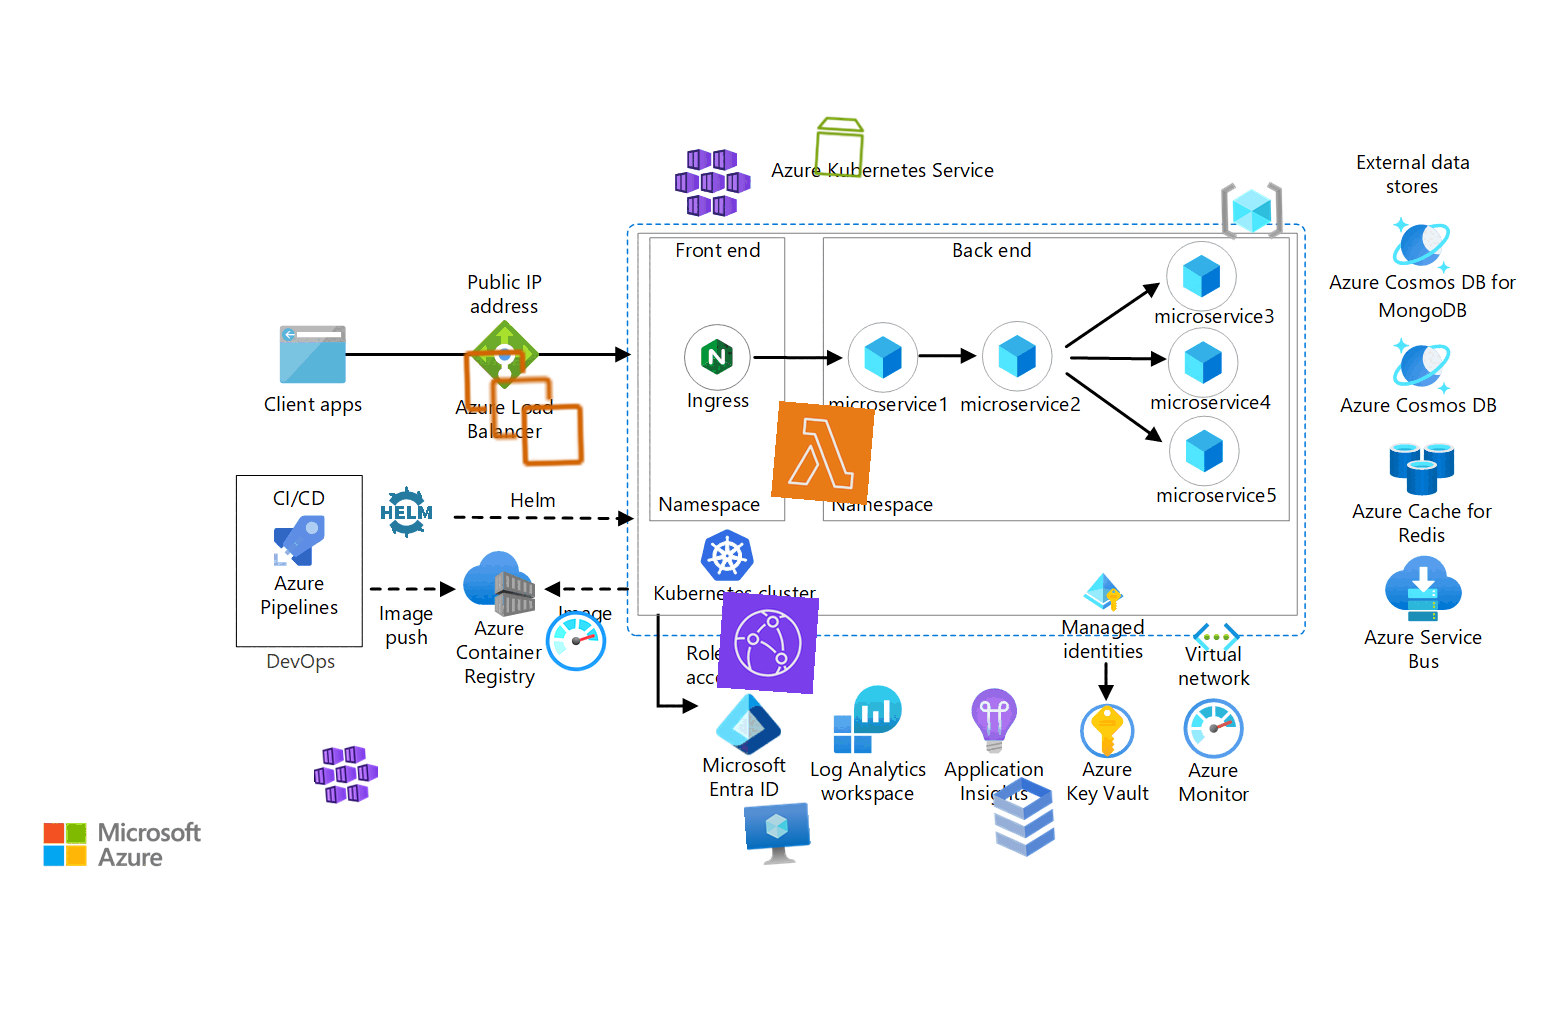aws_amazon_cloudfront: (716, 591, 820, 695)
aws_ec2_instances: (458, 342, 590, 475)
aws_elastic_block_store_volume: (805, 113, 874, 181)
aws_lambda: (771, 401, 875, 505)
azure_kubernetes_services: (310, 739, 382, 809)
azure_monitor: (541, 606, 611, 676)
azure_resource_groups: (1219, 178, 1286, 244)
azure_virtual_machine: (742, 801, 813, 871)
gcp_cloud_sql: (972, 765, 1076, 869)
